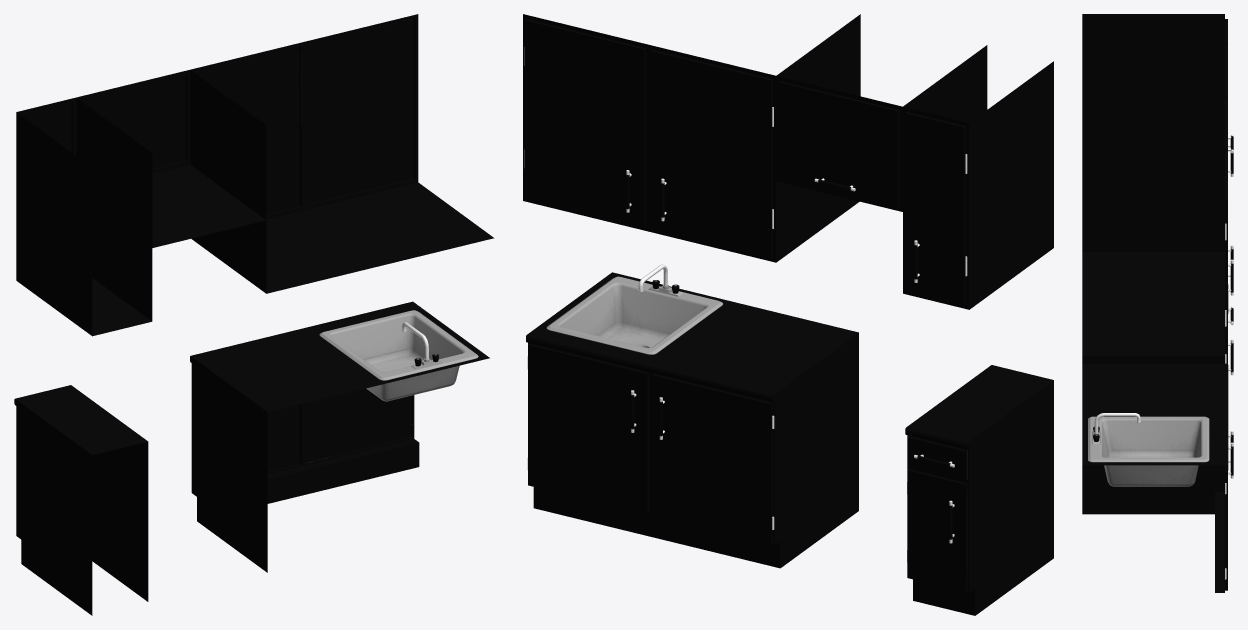
File: kitcneh.fbx
3 renders of one model, left to right at view 1: azimuth 30°, elevation 25°; view 2: azimuth 150°, elevation 25°; view 3: azimuth 270°, elevation 25°, orthographic. The views are drawn at different scales.
Visible parts, largest first — view 1: kitcneh; view 2: kitcneh; view 3: kitcneh.
Part boxes in pixels (left/top/right/bottom): kitcneh: left=14, top=14, right=494, bottom=615; kitcneh: left=523, top=14, right=1053, bottom=615; kitcneh: left=1082, top=14, right=1233, bottom=592.
Bounding box in the file's own units: 3.42 × 3.64 × 1.19.
